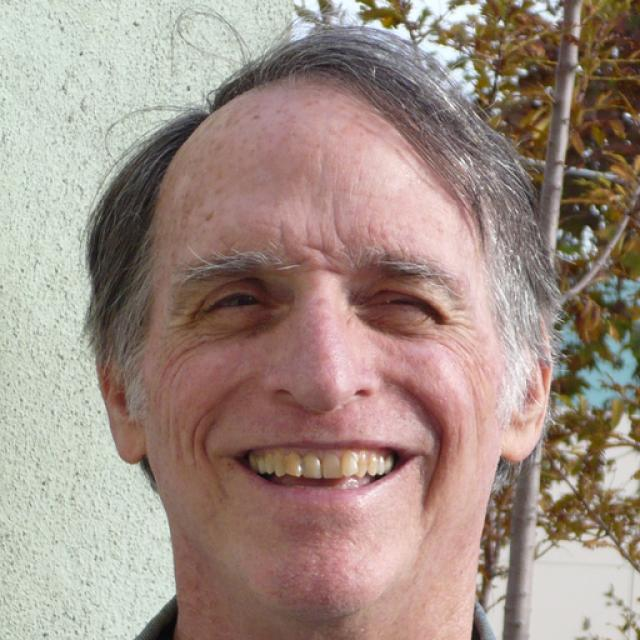happy: (138, 99, 512, 622)
